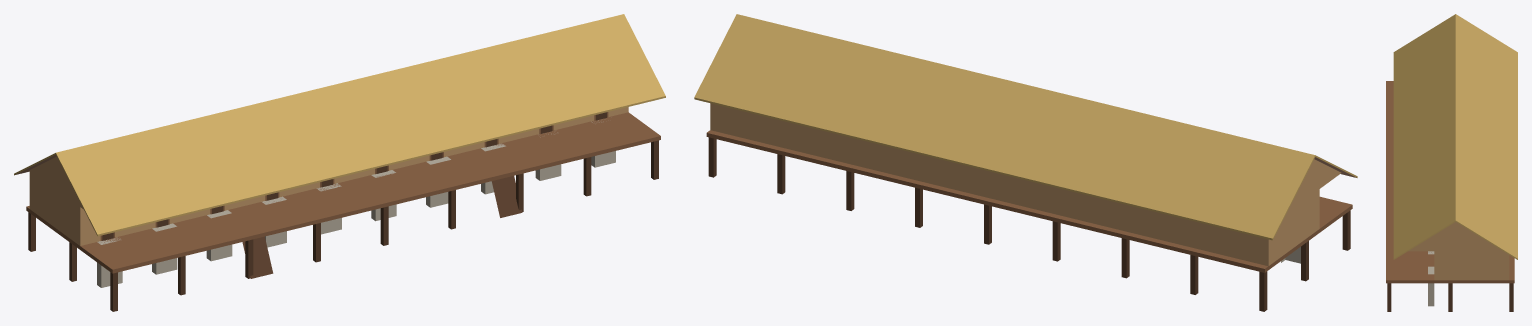
File: longhouse_borneo.glb
3 renders of one model, left to right at view 1: azimuth 30°, elevation 25°; view 2: azimuth 150°, elevation 25°; view 3: azimuth 270°, elevation 25°, orthographic. The views are drawn at different scales.
Parts seen in each view (by area): view 1: longhouse_borneo; view 2: longhouse_borneo; view 3: longhouse_borneo.
Boxes of the visible parts, <box> form: longhouse_borneo: <box>14,14,665,311</box>; longhouse_borneo: <box>694,14,1357,311</box>; longhouse_borneo: <box>1386,14,1517,311</box>.
Size of the model in its own units: 45.6 by 9.84 by 12.3.
1 material, 1 textured.
